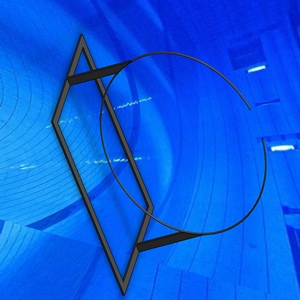circle: (51, 32, 269, 297)
